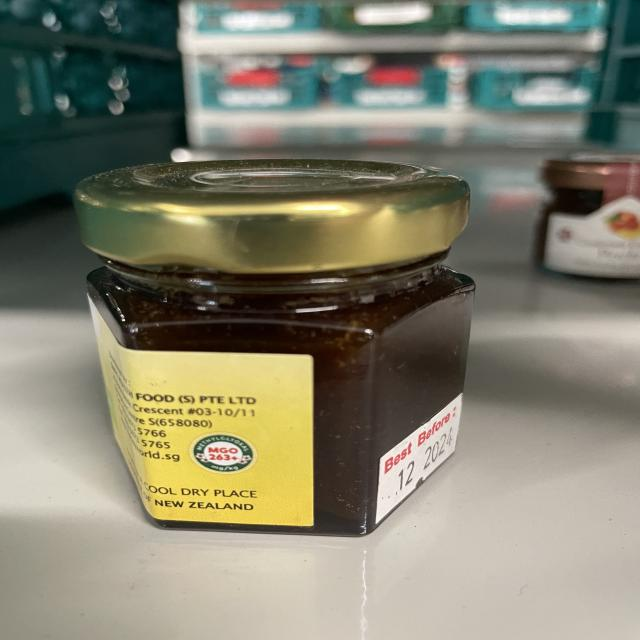object_name: (83, 166, 466, 539)
